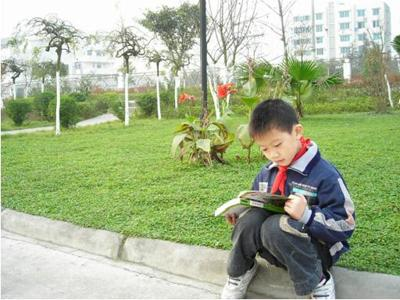person: (221, 100, 355, 299)
